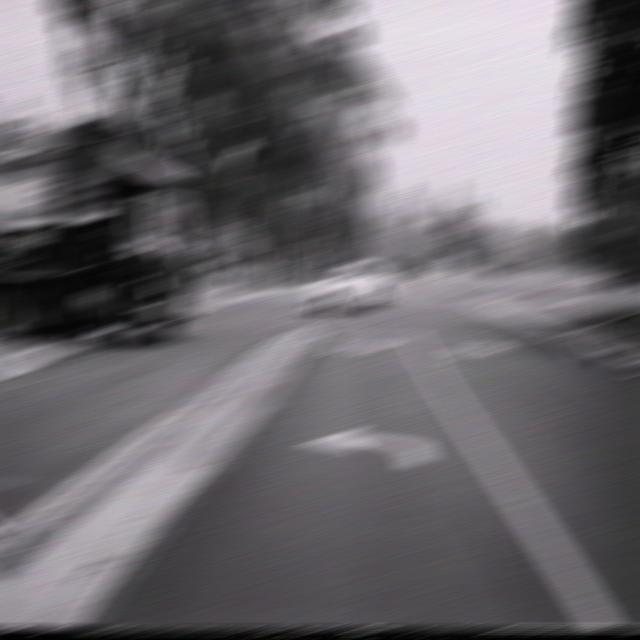stop_sign: (596, 192, 630, 232)
